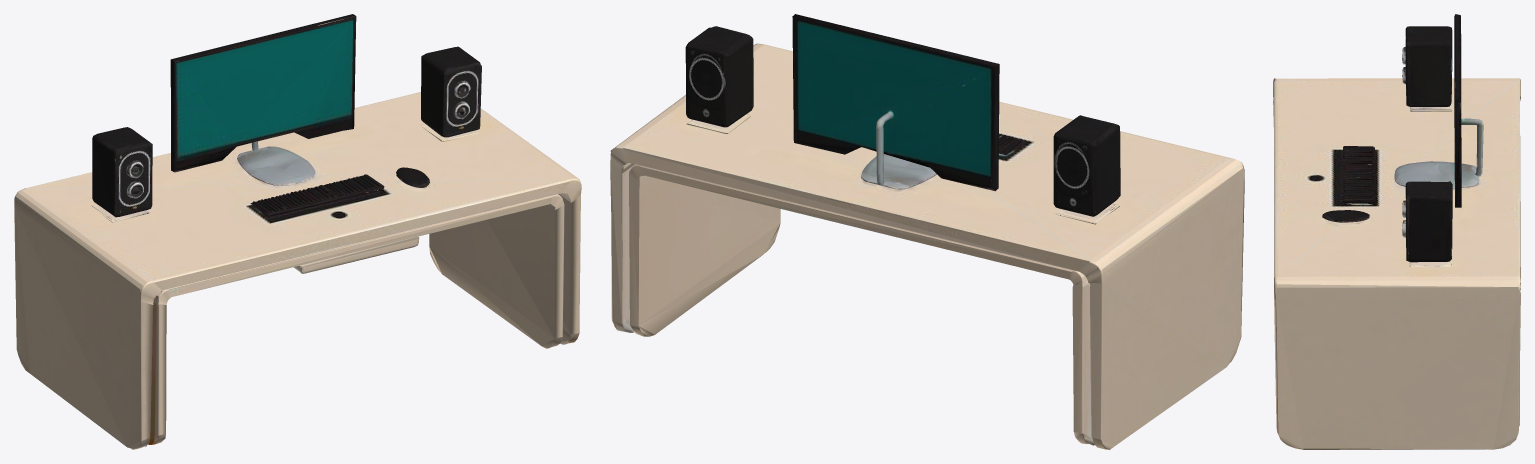
The model's file is desk.glb.
3 renders of one model, left to right at view 1: azimuth 30°, elevation 25°; view 2: azimuth 150°, elevation 25°; view 3: azimuth 270°, elevation 25°, orthographic. The views are drawn at different scales.
Bounding box in the file's own units: 2 × 1.3 × 1.01.
Materials: 1 (1 with a texture image).
